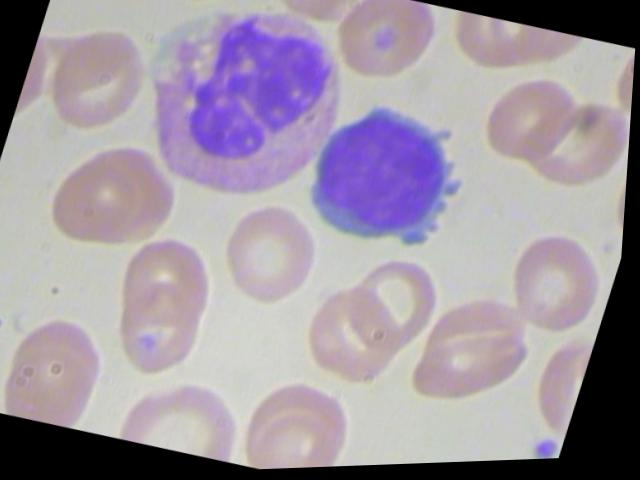Platelets: (527, 432, 569, 463)
Red Blood Cells: (0, 295, 129, 435), (331, 234, 462, 366), (35, 16, 165, 148), (38, 129, 168, 261), (206, 194, 340, 322), (494, 220, 623, 347), (111, 367, 261, 469), (110, 225, 238, 337), (474, 67, 592, 183), (237, 371, 372, 471), (322, 0, 448, 99)
White Blood Cells: (102, 0, 374, 233), (290, 88, 484, 271)
